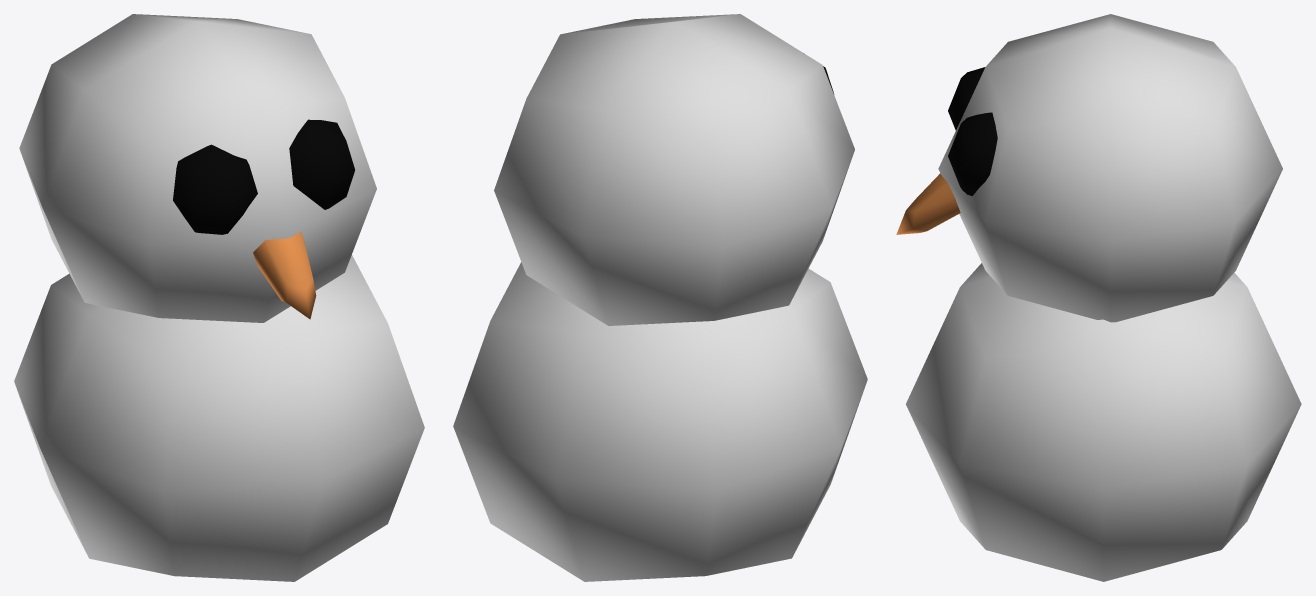
Rendered from Snowman_small.fbx.
The picture shows the model from 3 angles, left to right: view 1: azimuth 30°, elevation 25°; view 2: azimuth 150°, elevation 25°; view 3: azimuth 270°, elevation 25°; orthographic projection. The views are drawn at different scales.
Visible parts, largest first — view 1: Snowman_small; view 2: Snowman_small; view 3: Snowman_small.
Boxes of the visible parts, x1=… form: Snowman_small: x1=14, y1=14, x2=424, y2=581; Snowman_small: x1=453, y1=14, x2=867, y2=581; Snowman_small: x1=896, y1=14, x2=1301, y2=581.
Bounding box in the file's own units: 79.03 × 77.2 × 114.
